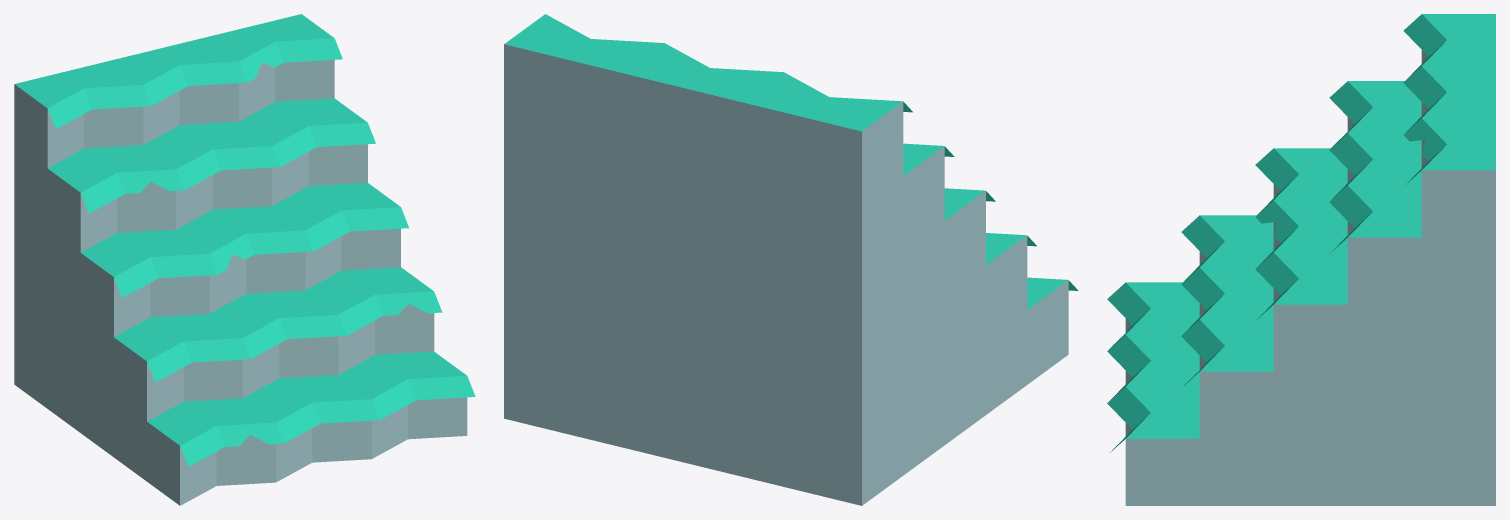
The model's file is cliff_steps_stone.dae.
3 renders of one model, left to right at view 1: azimuth 30°, elevation 25°; view 2: azimuth 150°, elevation 25°; view 3: azimuth 270°, elevation 25°, orthographic. The views are drawn at different scales.
Parts seen in each view (by area): view 1: cliff_steps_stone; view 2: cliff_steps_stone; view 3: cliff_steps_stone.
Part boxes in pixels (left/top/right/bottom): cliff_steps_stone: left=14, top=14, right=475, bottom=505; cliff_steps_stone: left=504, top=14, right=1078, bottom=505; cliff_steps_stone: left=1107, top=14, right=1495, bottom=505.
Bounding box in the file's own units: 1 × 1 × 1.05.
